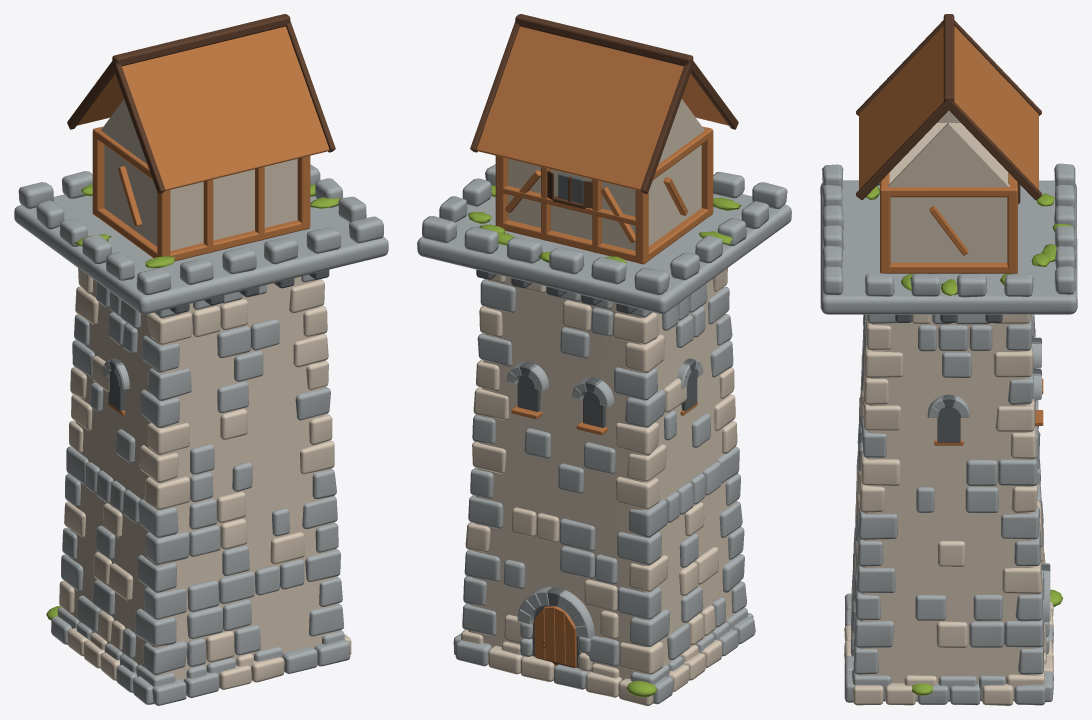
Rendered from GROVE_TOWER.glb.
3 renders of one model, left to right at view 1: azimuth 30°, elevation 25°; view 2: azimuth 150°, elevation 25°; view 3: azimuth 270°, elevation 25°, orthographic.
Parts seen in each view (by area): view 1: tower_stones, tower_core, tower_stones_light, roof_shingles, ledge, merlons, hut_infill, hut_timber, roof_trim, gable_r, moss, corbels; view 2: tower_stones, tower_core, tower_stones_light, roof_shingles, ledge, merlons, hut_timber, hut_infill, roof_trim, door, moss, gable_r (+6 smaller); view 3: tower_core, tower_stones, tower_stones_light, ledge, roof_shingles, hut_infill, merlons, hut_timber, roof_trim, gable_l, moss, window_10 (+1 smaller).
Part boxes in pixels (box(x1,y1,x2,y2)): tower_stones: box(51, 275, 350, 705); tower_core: box(68, 276, 337, 680); tower_stones_light: box(59, 268, 351, 689); roof_shingles: box(77, 26, 329, 190); ledge: box(14, 194, 388, 314); merlons: box(18, 164, 383, 295); hut_infill: box(104, 145, 297, 250); hut_timber: box(92, 126, 310, 261); roof_trim: box(67, 14, 335, 193); gable_r: box(101, 99, 147, 164); moss: box(46, 184, 340, 620); corbels: box(169, 270, 329, 313); tower_stones: box(453, 279, 755, 704); tower_core: box(468, 277, 739, 680); tower_stones_light: box(461, 268, 737, 705); roof_shingles: box(476, 26, 728, 190); ledge: box(417, 194, 791, 313); merlons: box(422, 164, 787, 295); hut_timber: box(495, 126, 713, 264); hut_infill: box(508, 145, 701, 250); roof_trim: box(470, 14, 738, 193); door: box(534, 606, 576, 668); moss: box(468, 185, 741, 697); gable_r: box(658, 99, 704, 164); tower_core: box(859, 314, 1039, 684); tower_stones: box(844, 314, 1053, 705); tower_stones_light: box(844, 314, 1053, 705); ledge: box(820, 180, 1077, 314); roof_shingles: box(859, 26, 1038, 189); hut_infill: box(889, 123, 1008, 262); merlons: box(821, 163, 1075, 297); hut_timber: box(880, 172, 1017, 273); roof_trim: box(856, 14, 1041, 199); gable_l: box(888, 122, 1009, 187); moss: box(865, 186, 1072, 695); window_10: box(937, 407, 960, 442).
Size of the model in its own units: 21.74 by 50.05 by 19.36.
